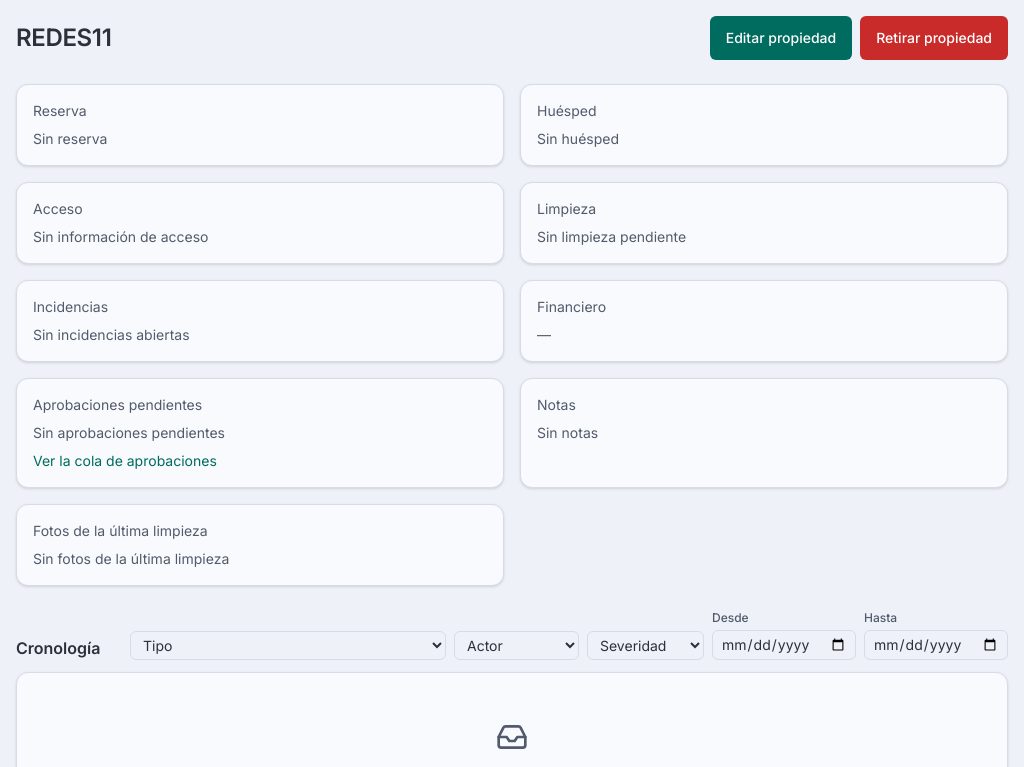
PropertyDetailView — retire affordance (R2.6, design D9) › renders the generic error and keeps the dialog open when the mutation fails
Click the button "Retirar propiedad".
click(934, 38)  # box [860,16,1008,60]
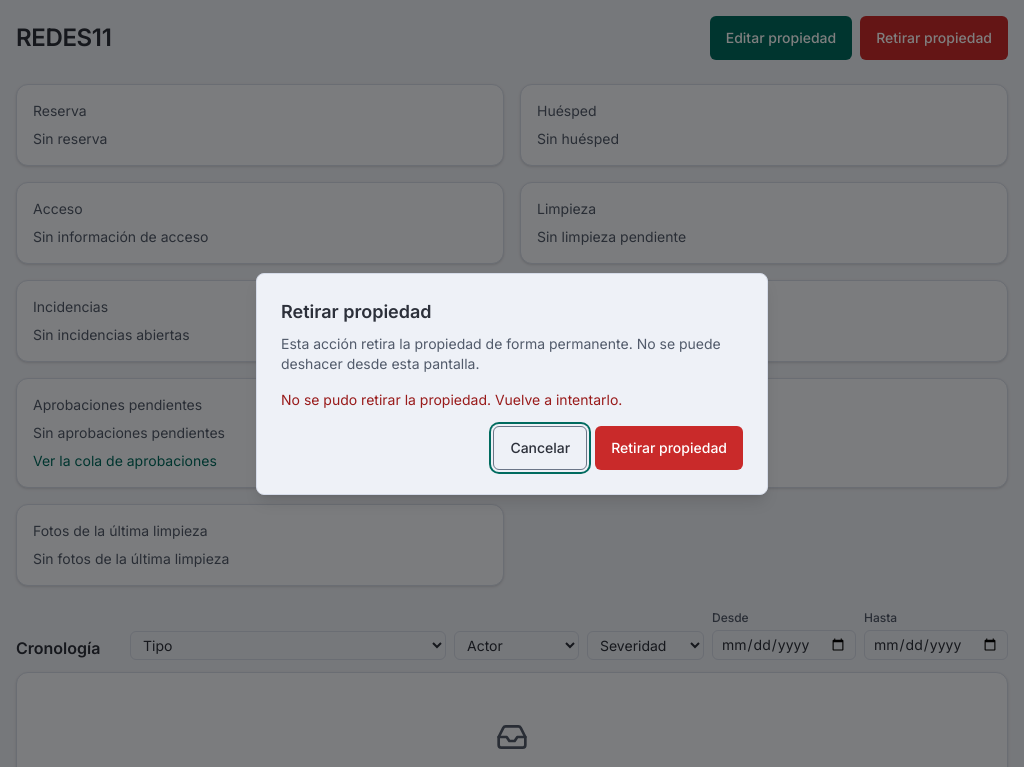
Now the message reads "No se pudo retirar la propiedad. Vuelve a intentarlo.", box [281,391,622,408]
Now the heading "Retirar propiedad" is shown, box [281,301,432,322]
